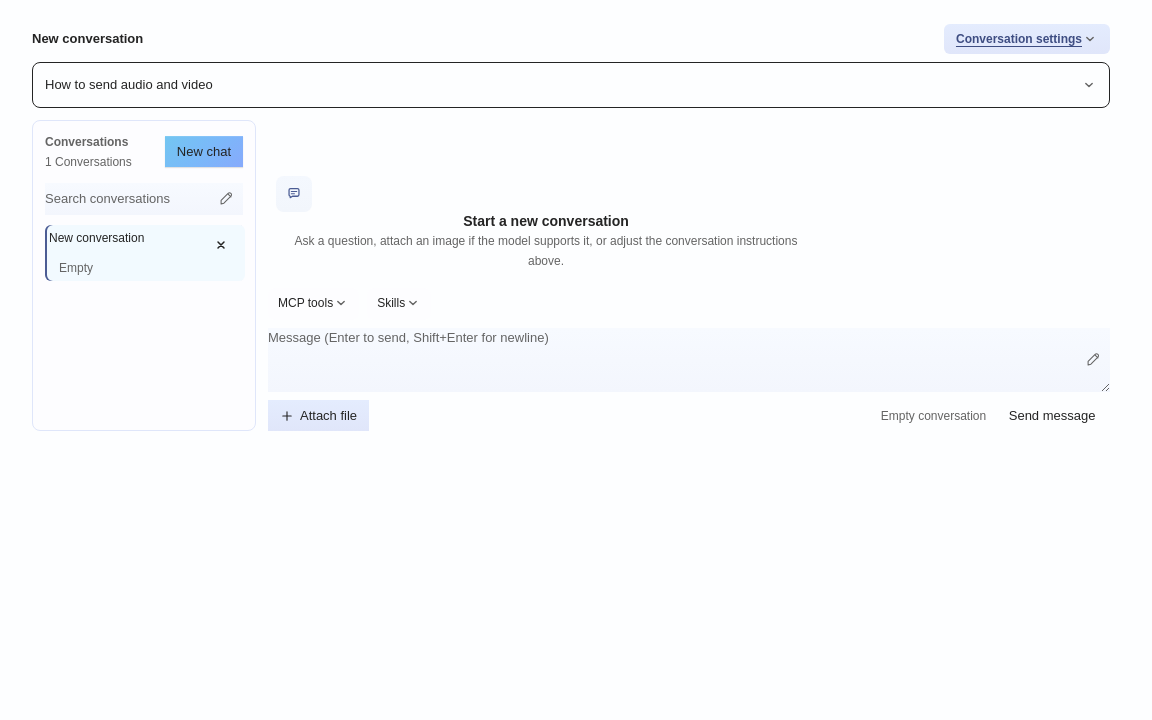
Test case: chat skill picker › searches, selects and sends a skill once, then clears the selection
This screenshot has width=1152, height=720.
Check: the element "conversation" is shown, box [276, 176, 798, 268]
Click the heading "Skills".
click(399, 304)  # box [367, 288, 431, 320]
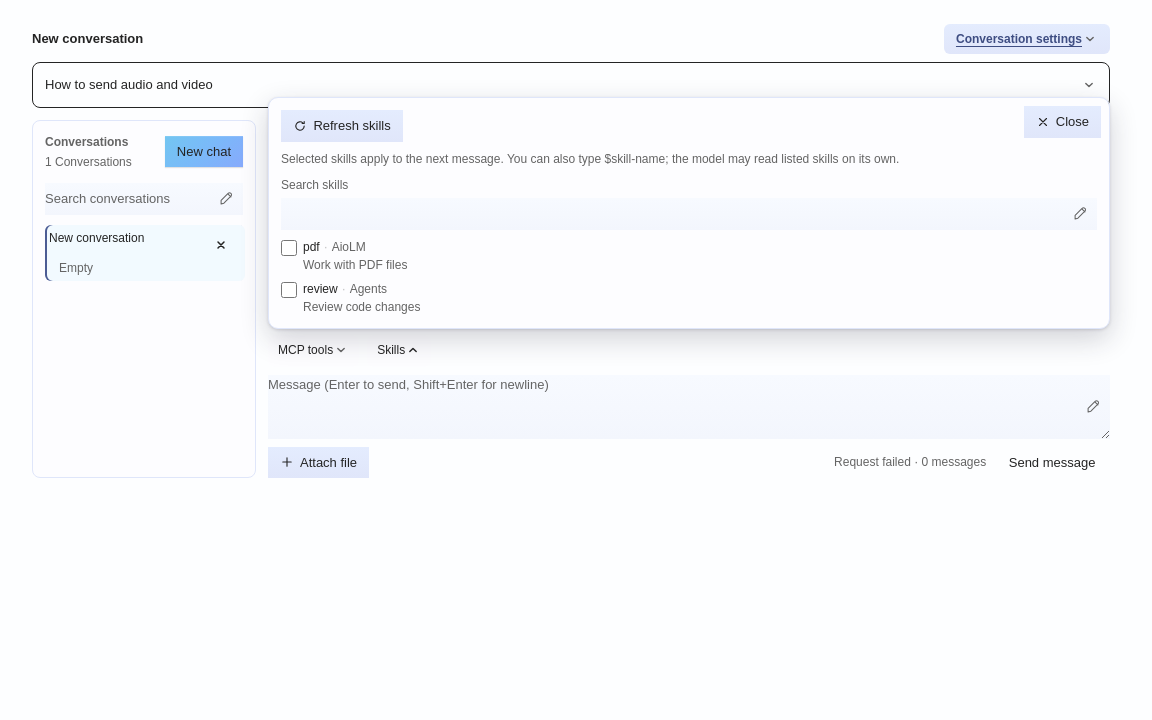
Type "code" into the search field labelled "Search skills".
click(689, 214); type("code")  # box [281, 198, 1097, 230]
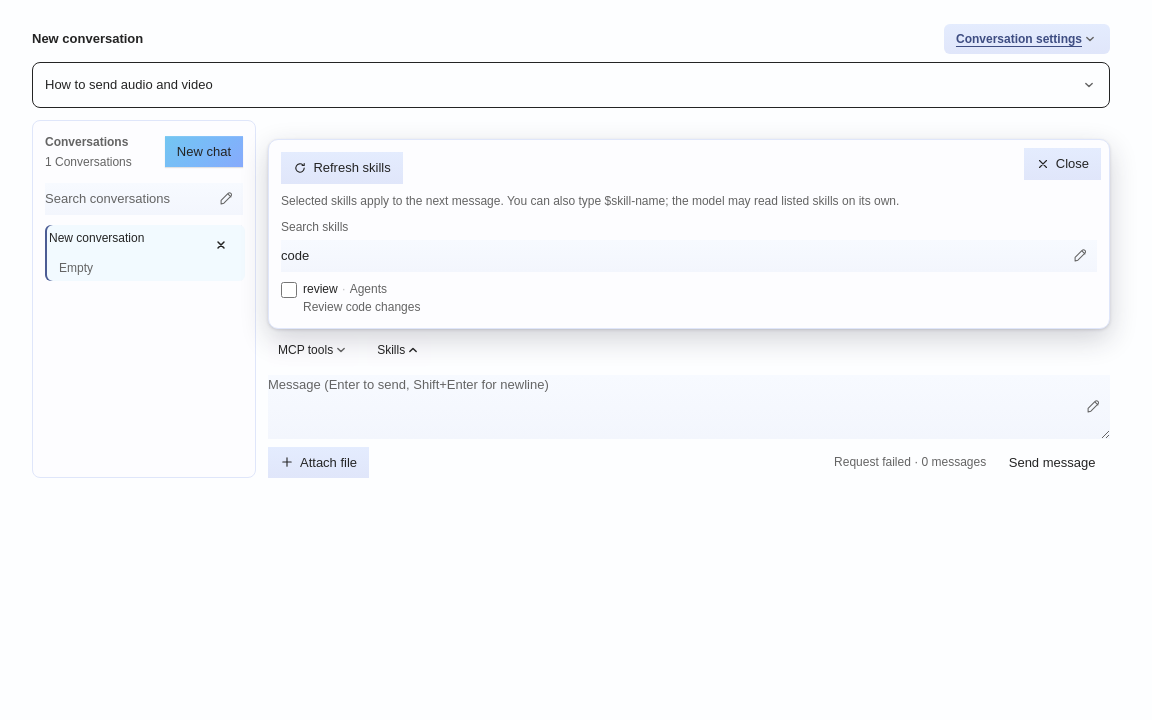
Check: the text "pdf" is gone
Press Enter in the search field labelled "Search skills", box [281, 240, 1097, 272]
Click the checkbox labelled "review·Agents Review code changes".
click(289, 290)  # box [281, 282, 297, 298]
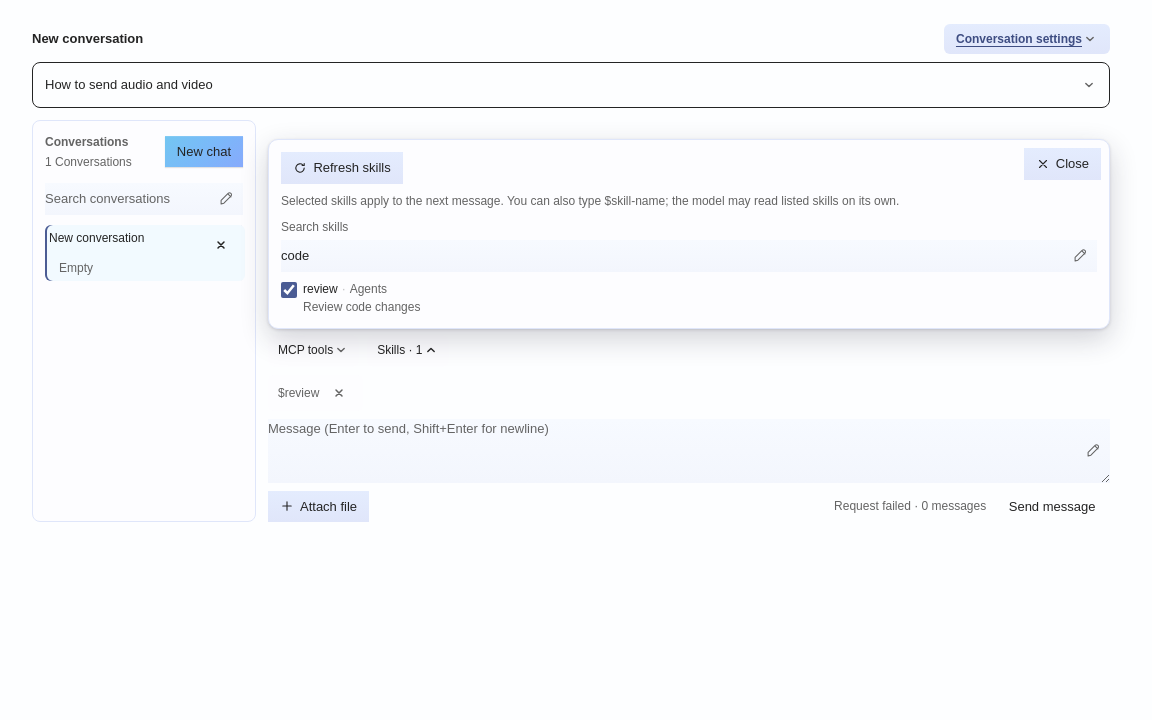
Check: the text "$review" is shown, box [278, 384, 319, 402]
Type "Check this with $review" into the text box named "Chat message".
click(689, 451); type("Check this with $review")  # box [268, 419, 1110, 483]
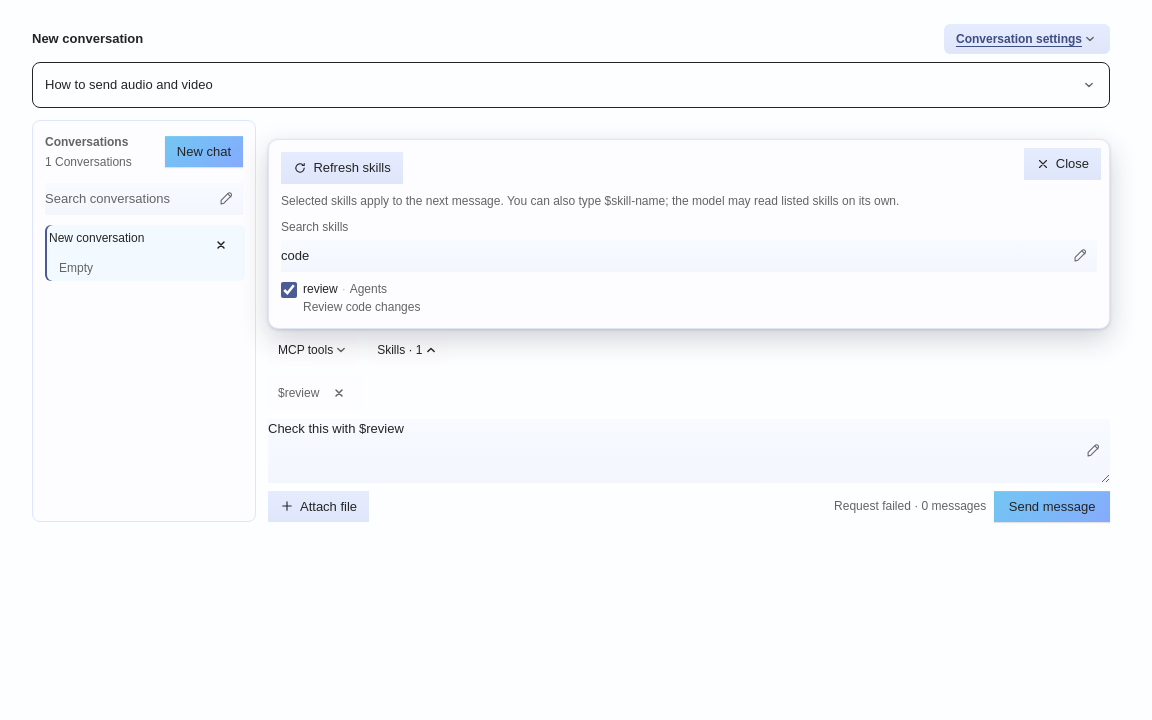
Click the button named "Send message".
click(1052, 506)  # box [994, 491, 1110, 522]
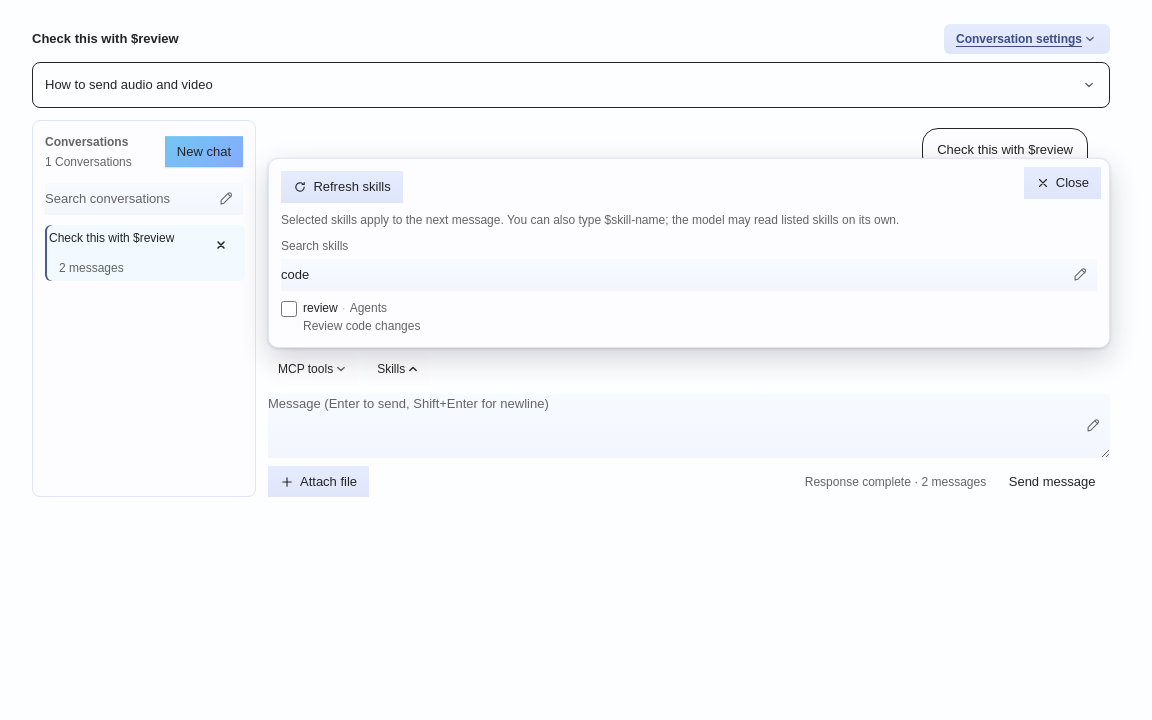
Check: the text "Reviewed" is shown, box [284, 195, 341, 210]
